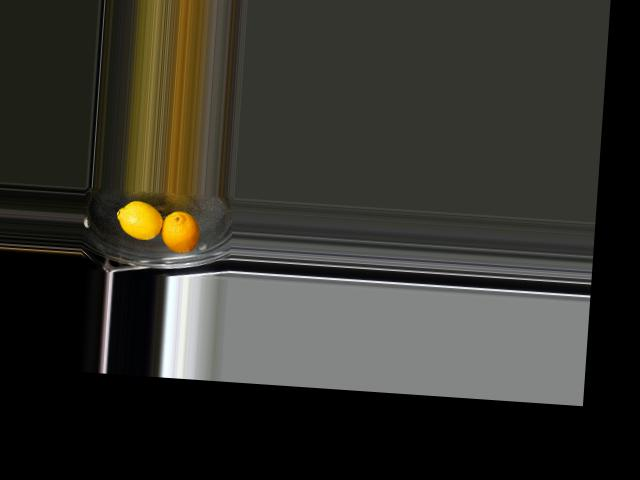lemon: (112, 200, 168, 242)
